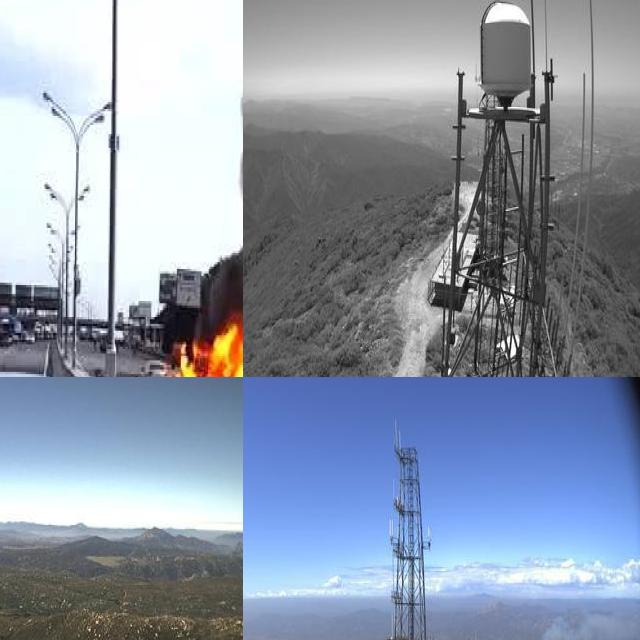fire: (174, 319, 243, 377)
smoke: (504, 609, 637, 640)
